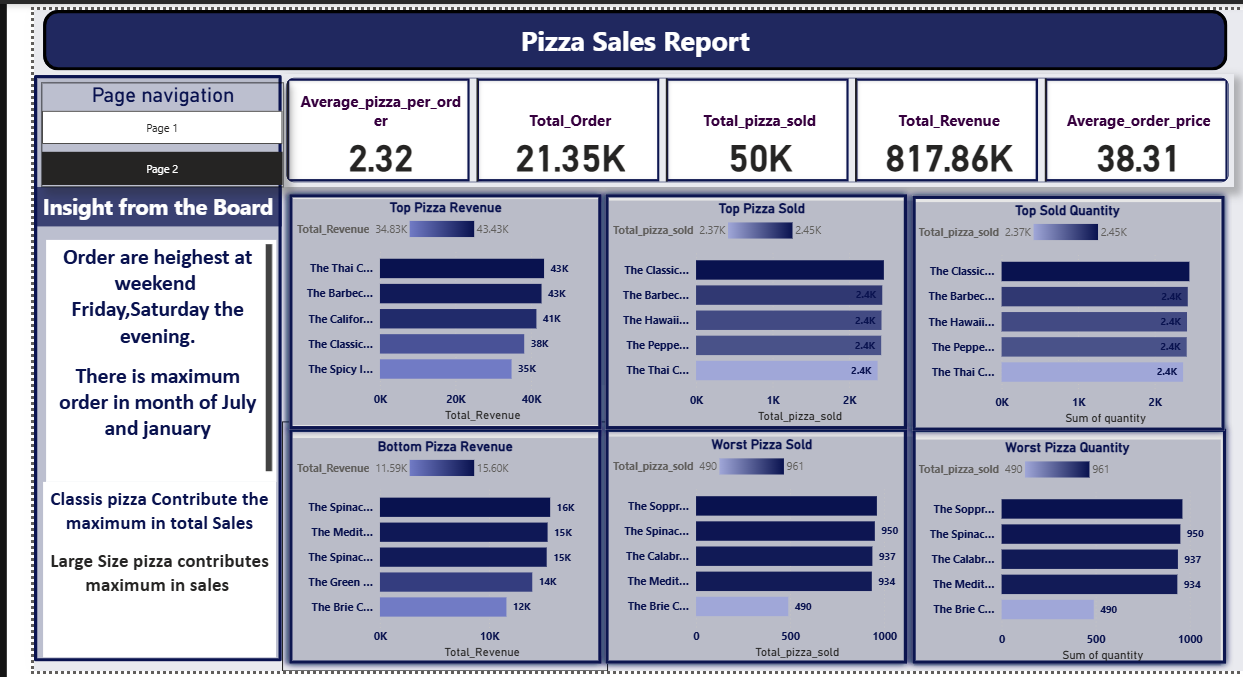

What the dashboard file says about the page in this screenshot:
{"tool":"powerbi","page":{"name":"Page 2","canvas":[1500,820],"ordinal":1},"visuals":[{"type":"cardVisual","fields":{"Data":["pizza_sales.Average_pizza_per_order","pizza_sales.Total_Order","pizza_sales.Total_pizza_sold","pizza_sales.Total_Revenue","pizza_sales.Average_order_price"]},"box":[307.7,78.8,1180,140.7],"z":0},{"type":"shape","box":[11.3,0,1468.9,75],"z":1000},{"type":"shape","box":[307.7,510.3,405.2,309.5],"z":2000},{"type":"shape","box":[699.8,510.3,392.1,309.5],"z":3000},{"type":"shape","box":[1080.6,510.3,407.1,309.5],"z":4000},{"type":"shape","box":[0,80,307.3,727.3],"z":5000},{"type":"textbox","box":[0,220,307.3,49.1],"z":6000},{"type":"textbox","box":[14.5,285.5,285.5,300],"z":7000},{"type":"textbox","box":[11.3,585.3,288.9,217.6],"z":8000},{"type":"shape","box":[307.7,219.5,405.2,309.5],"z":9000},{"type":"shape","box":[699.8,219.5,392.1,309.5],"z":10000},{"type":"shape","box":[1080.6,221.4,405.2,309.5],"z":11000},{"type":"clusteredBarChart","title":"Top Pizza Revenue","fields":{"Category":["pizza_sales.pizza_name"],"Y":["pizza_sales.Total_Revenue"]},"box":[320,235,380,280],"z":12000},{"type":"clusteredBarChart","title":"Bottom Pizza Revenue","fields":{"Category":["pizza_sales.pizza_name"],"Y":["pizza_sales.Total_Revenue"]},"box":[320,530,378.6,278.6],"z":13000},{"type":"clusteredBarChart","title":"Top Pizza Sold","fields":{"Category":["pizza_sales.pizza_name"],"Y":["pizza_sales.Total_pizza_sold"]},"box":[713.3,236.7,380,280],"z":14000},{"type":"clusteredBarChart","title":"Worst Pizza Sold","fields":{"Category":["pizza_sales.pizza_name"],"Y":["pizza_sales.Total_pizza_sold"]},"box":[713.3,528.3,380,280],"z":15001},{"type":"clusteredBarChart","title":"Top Sold Quantity","fields":{"Category":["pizza_sales.pizza_name"],"Y":["Sum(pizza_sales.quantity)"]},"box":[1092.5,237.5,380,280],"z":15002},{"type":"clusteredBarChart","title":"Worst Pizza Quantity","fields":{"Category":["pizza_sales.pizza_name"],"Y":["Sum(pizza_sales.quantity)"]},"box":[1092.5,532.5,380,280],"z":15003},{"type":"pageNavigator","title":"Page navigation","box":[9.4,90,300.2,129.4],"z":15004}]}

Visuals, with their boxes in screenshot pixels (x1, y1, x2, y2), scaled from the page's 1500x820 canvas onto the 1243x677 screenshot:
cardVisual - pizza_sales.Average_pizza_per_order x pizza_sales.Total_Order: crop(255, 65, 1233, 181)
shape: crop(9, 0, 1227, 62)
shape: crop(255, 421, 591, 676)
shape: crop(580, 421, 905, 676)
shape: crop(895, 421, 1233, 676)
shape: crop(0, 66, 255, 667)
textbox: crop(0, 182, 255, 222)
textbox: crop(12, 236, 249, 483)
textbox: crop(9, 483, 249, 663)
shape: crop(255, 181, 591, 437)
shape: crop(580, 181, 905, 437)
shape: crop(895, 183, 1231, 438)
"Top Pizza Revenue" clusteredBarChart: crop(265, 194, 580, 425)
"Bottom Pizza Revenue" clusteredBarChart: crop(265, 438, 579, 668)
"Top Pizza Sold" clusteredBarChart: crop(591, 195, 906, 427)
"Worst Pizza Sold" clusteredBarChart: crop(591, 436, 906, 667)
"Top Sold Quantity" clusteredBarChart: crop(905, 196, 1220, 427)
"Worst Pizza Quantity" clusteredBarChart: crop(905, 440, 1220, 671)
"Page navigation" pageNavigator: crop(8, 74, 257, 181)
